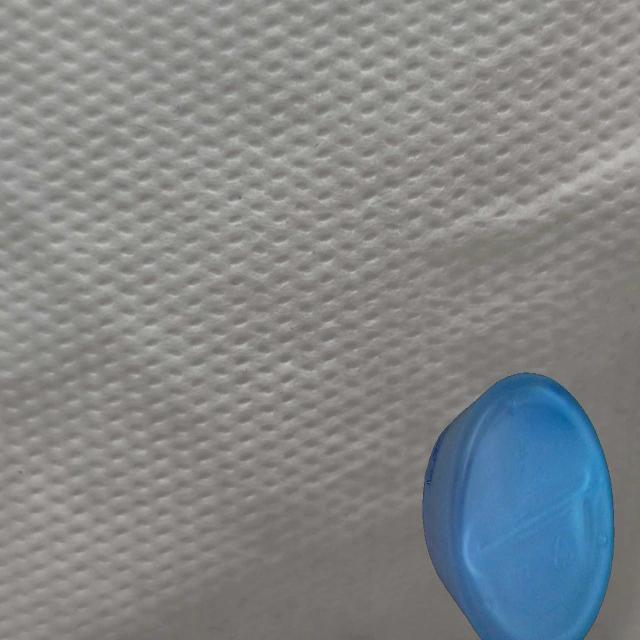bottle: (421, 362, 616, 640)
